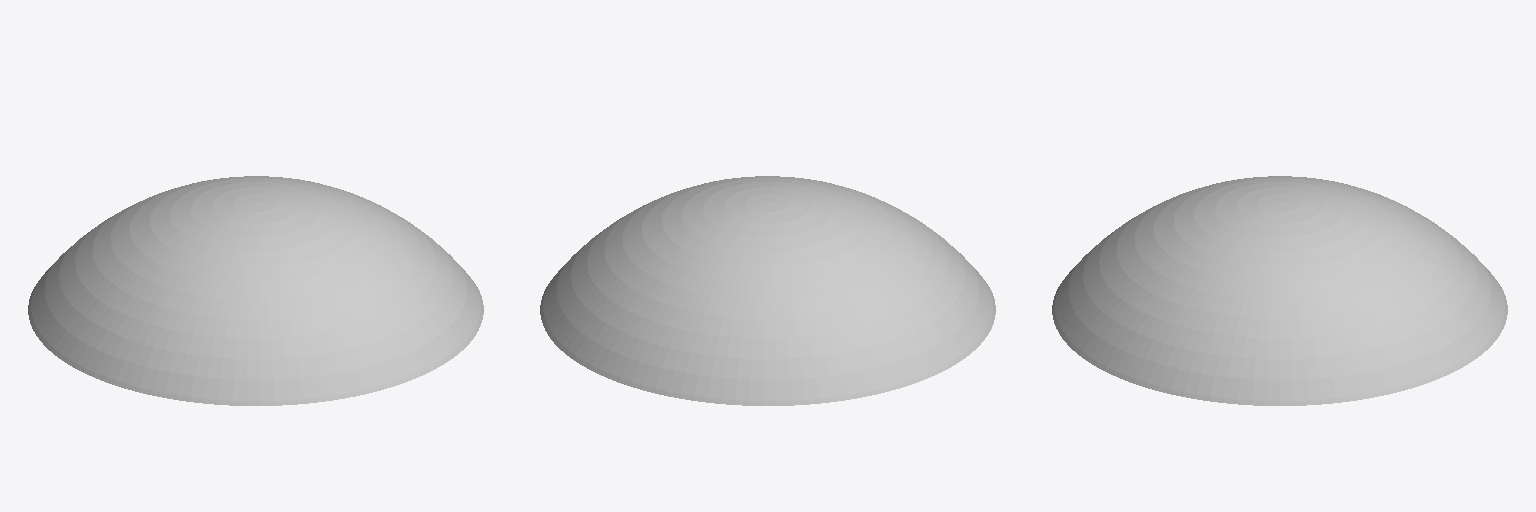
Rendered from ufo_half_sphere.obj.
3 renders of one model, left to right at view 1: azimuth 30°, elevation 25°; view 2: azimuth 150°, elevation 25°; view 3: azimuth 270°, elevation 25°, orthographic.
Visible parts, largest first — view 1: Sphere; view 2: Sphere; view 3: Sphere.
Boxes of the visible parts, x1=… form: Sphere: x1=28, y1=176, x2=483, y2=405; Sphere: x1=540, y1=176, x2=995, y2=405; Sphere: x1=1052, y1=176, x2=1507, y2=405.
Size of the model in its own units: 0.2718 by 0.0709 by 0.2718.